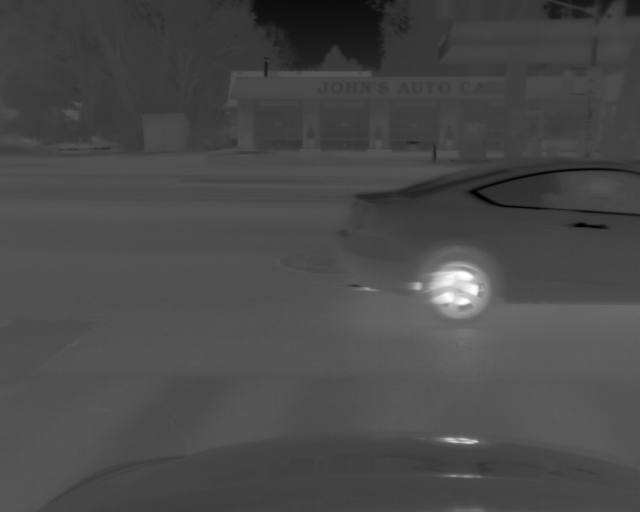car: (334, 155, 640, 323)
